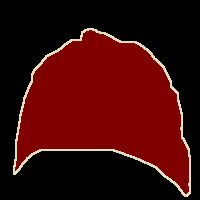hat: (14, 28, 190, 196)
